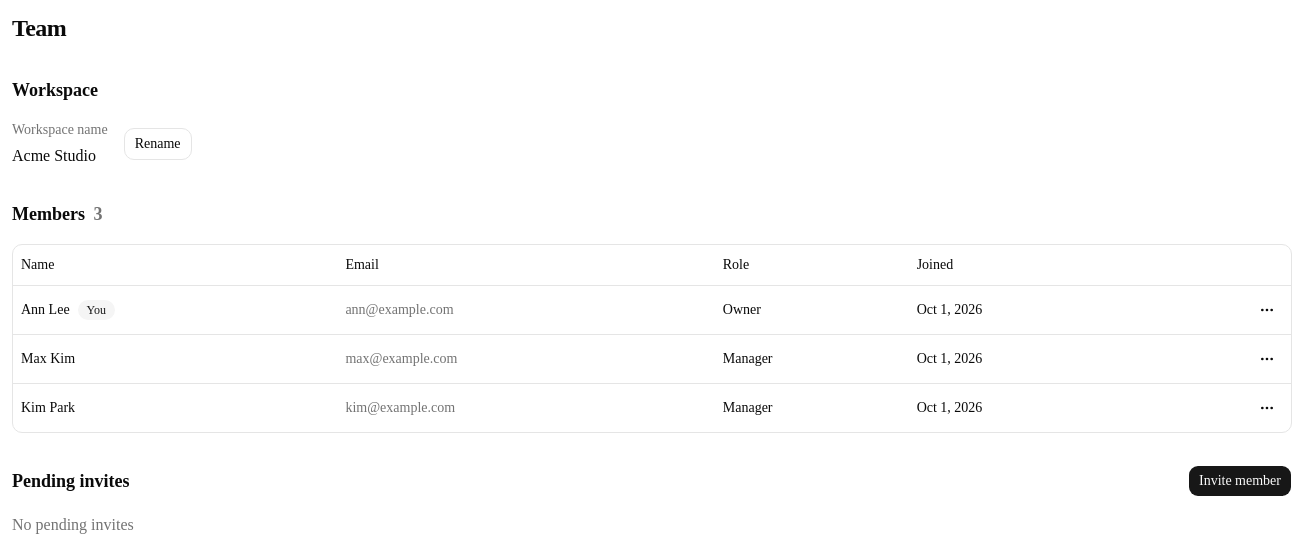
Test case: TeamView › roles › should disable Make manager and offer no removal on the own row when the caller is the only owner
Click the button named "Actions for Ann Lee". click: click(1267, 310)
box: [1251,294,1283,326]
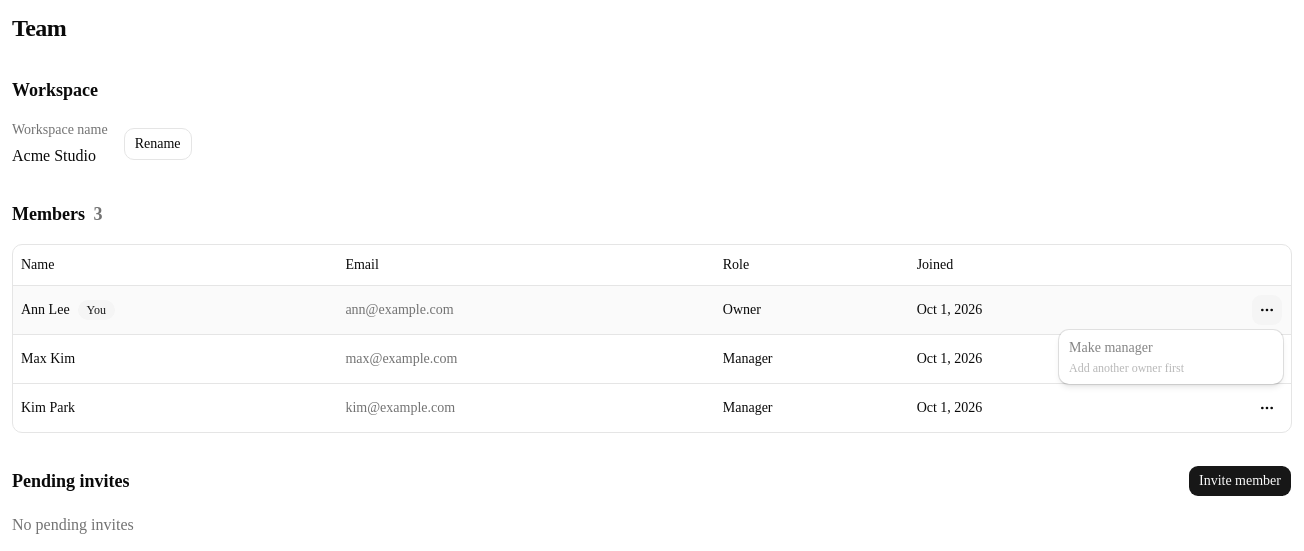
Check: the menu item "Make manager Add another owner first" is shown, box [1069,340,1184,375]
